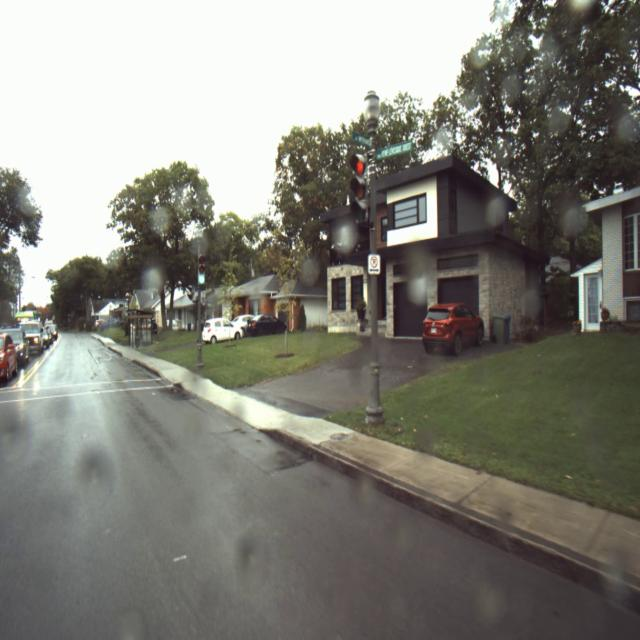car: (424, 300, 484, 353)
trafficLight-Green: (194, 247, 206, 294)
trafficLight-Red: (352, 152, 370, 222)
